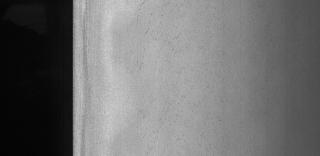silk spot: (124, 0, 206, 152)
